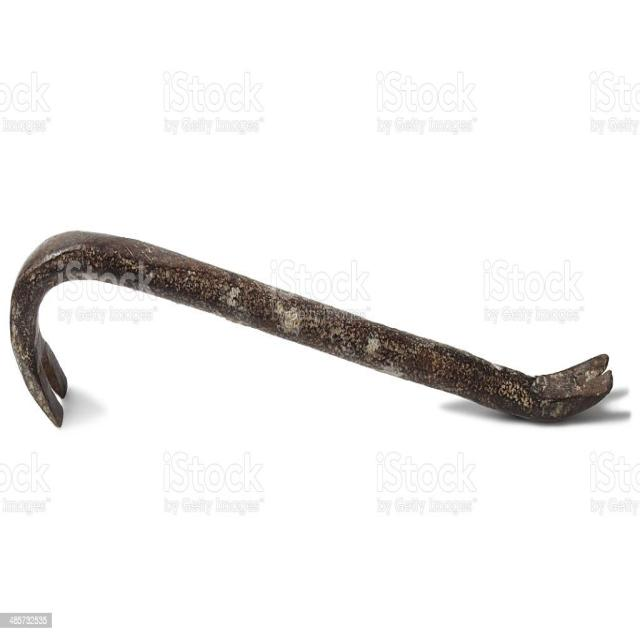Linggis: (7, 229, 616, 434)
